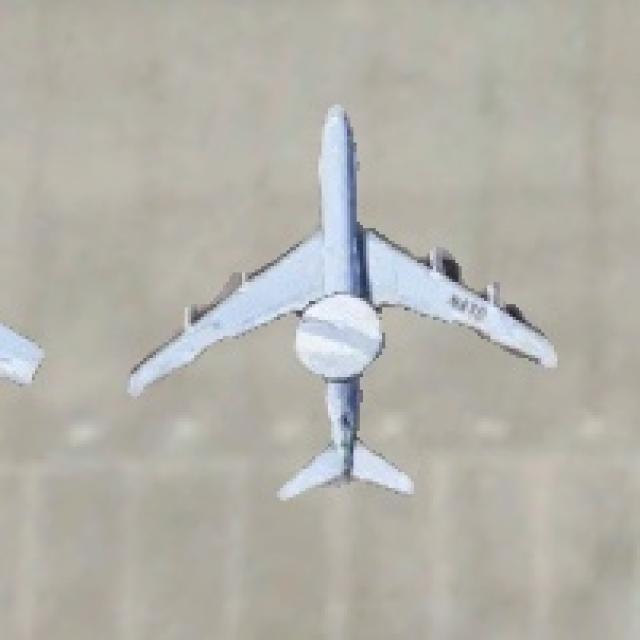E-3_TopDown: (124, 102, 557, 500)
